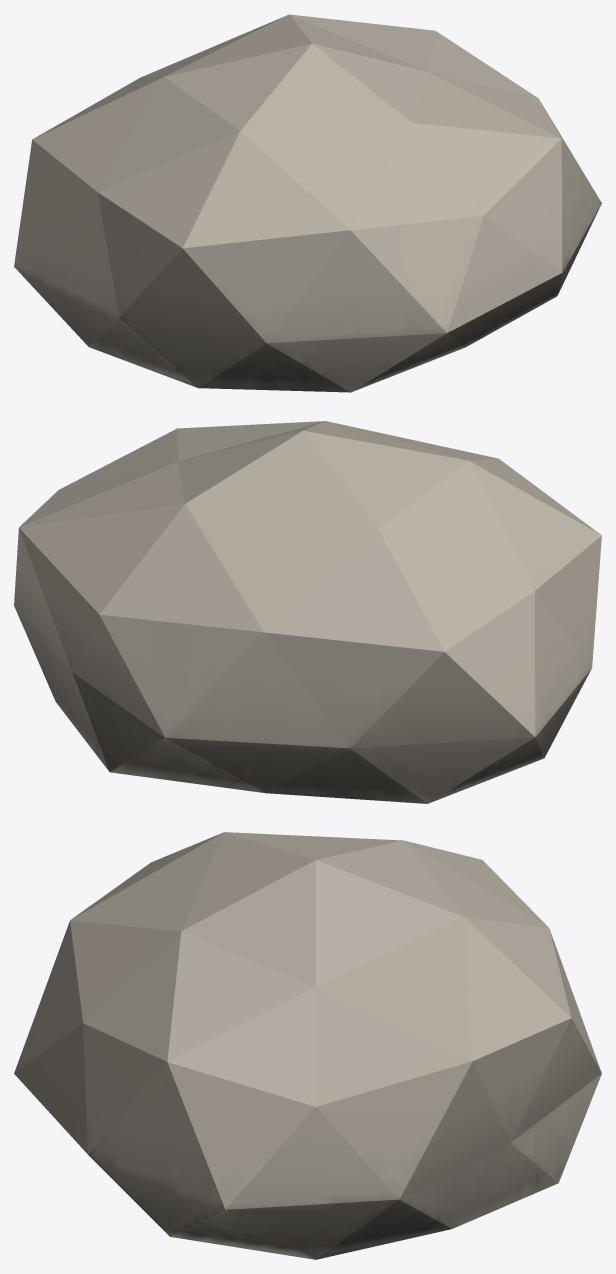
Rendered from rock_small.glb.
3 renders of one model, top to bottom at view 1: azimuth 30°, elevation 25°; view 2: azimuth 150°, elevation 25°; view 3: azimuth 270°, elevation 25°, orthographic. The views are drawn at different scales.
Visible parts, largest first — view 1: rock_small; view 2: rock_small; view 3: rock_small.
Boxes of the visible parts, <box> form: rock_small: <box>14,14,601,392</box>; rock_small: <box>14,421,601,803</box>; rock_small: <box>14,832,601,1259</box>.
Bounding box in the file's own units: 0.3498 × 0.1824 × 0.3145.
Materials: 1 (1 with a texture image).
